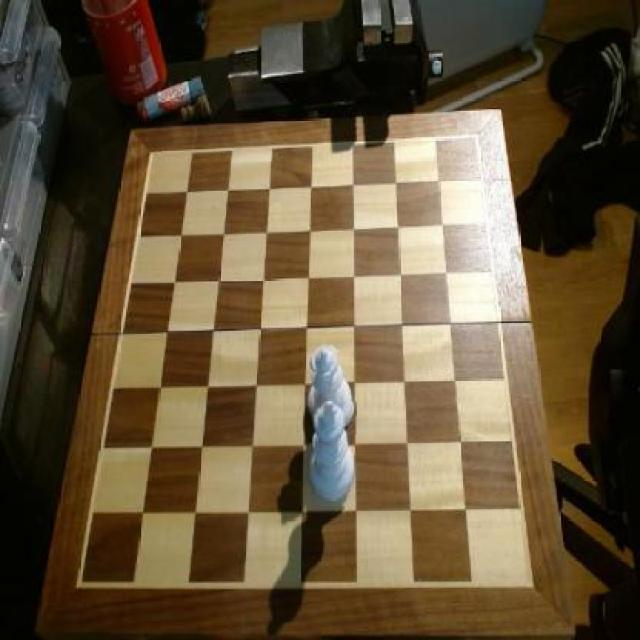white-bishop: (307, 400, 358, 508)
white-pawn: (308, 342, 354, 434)
